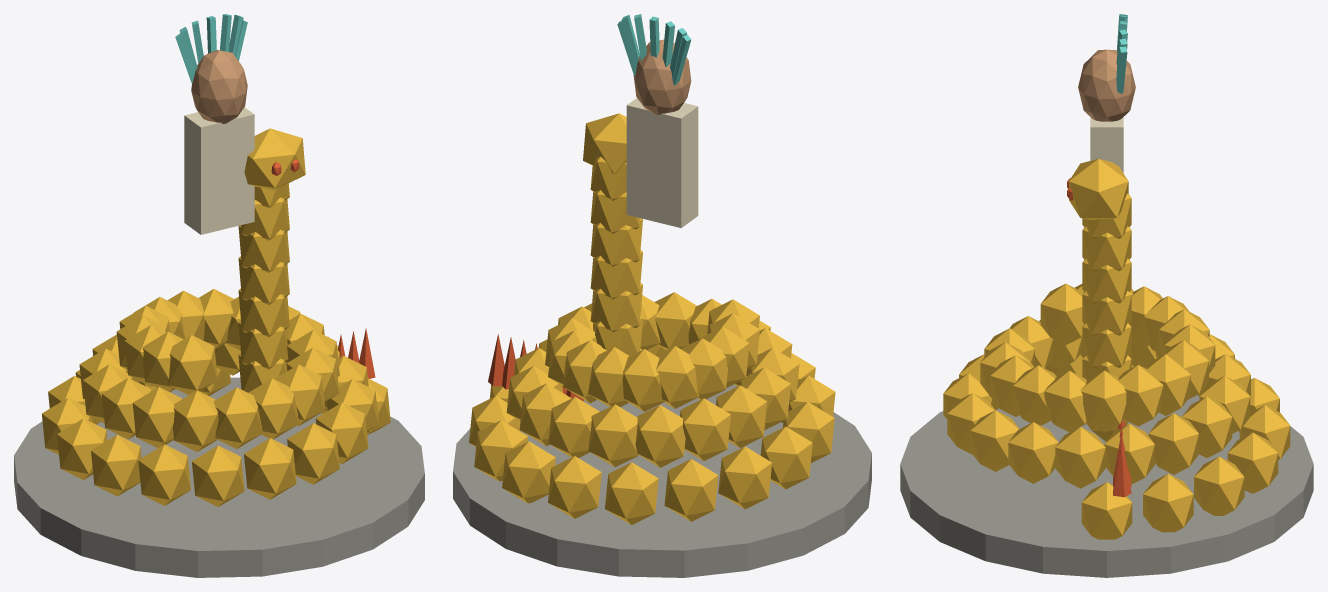
Rendered from chefe_medusa.glb.
3 renders of one model, left to right at view 1: azimuth 30°, elevation 25°; view 2: azimuth 150°, elevation 25°; view 3: azimuth 270°, elevation 25°, orthographic.
Parts seen in each view (by area): view 1: chefe_medusa; view 2: chefe_medusa; view 3: chefe_medusa.
Part boxes in pixels (x1,y1,x2,y2): chefe_medusa: (14, 14, 424, 577); chefe_medusa: (453, 14, 871, 577); chefe_medusa: (900, 14, 1313, 577).
Bounding box in the file's own units: 8 × 10 × 8.
